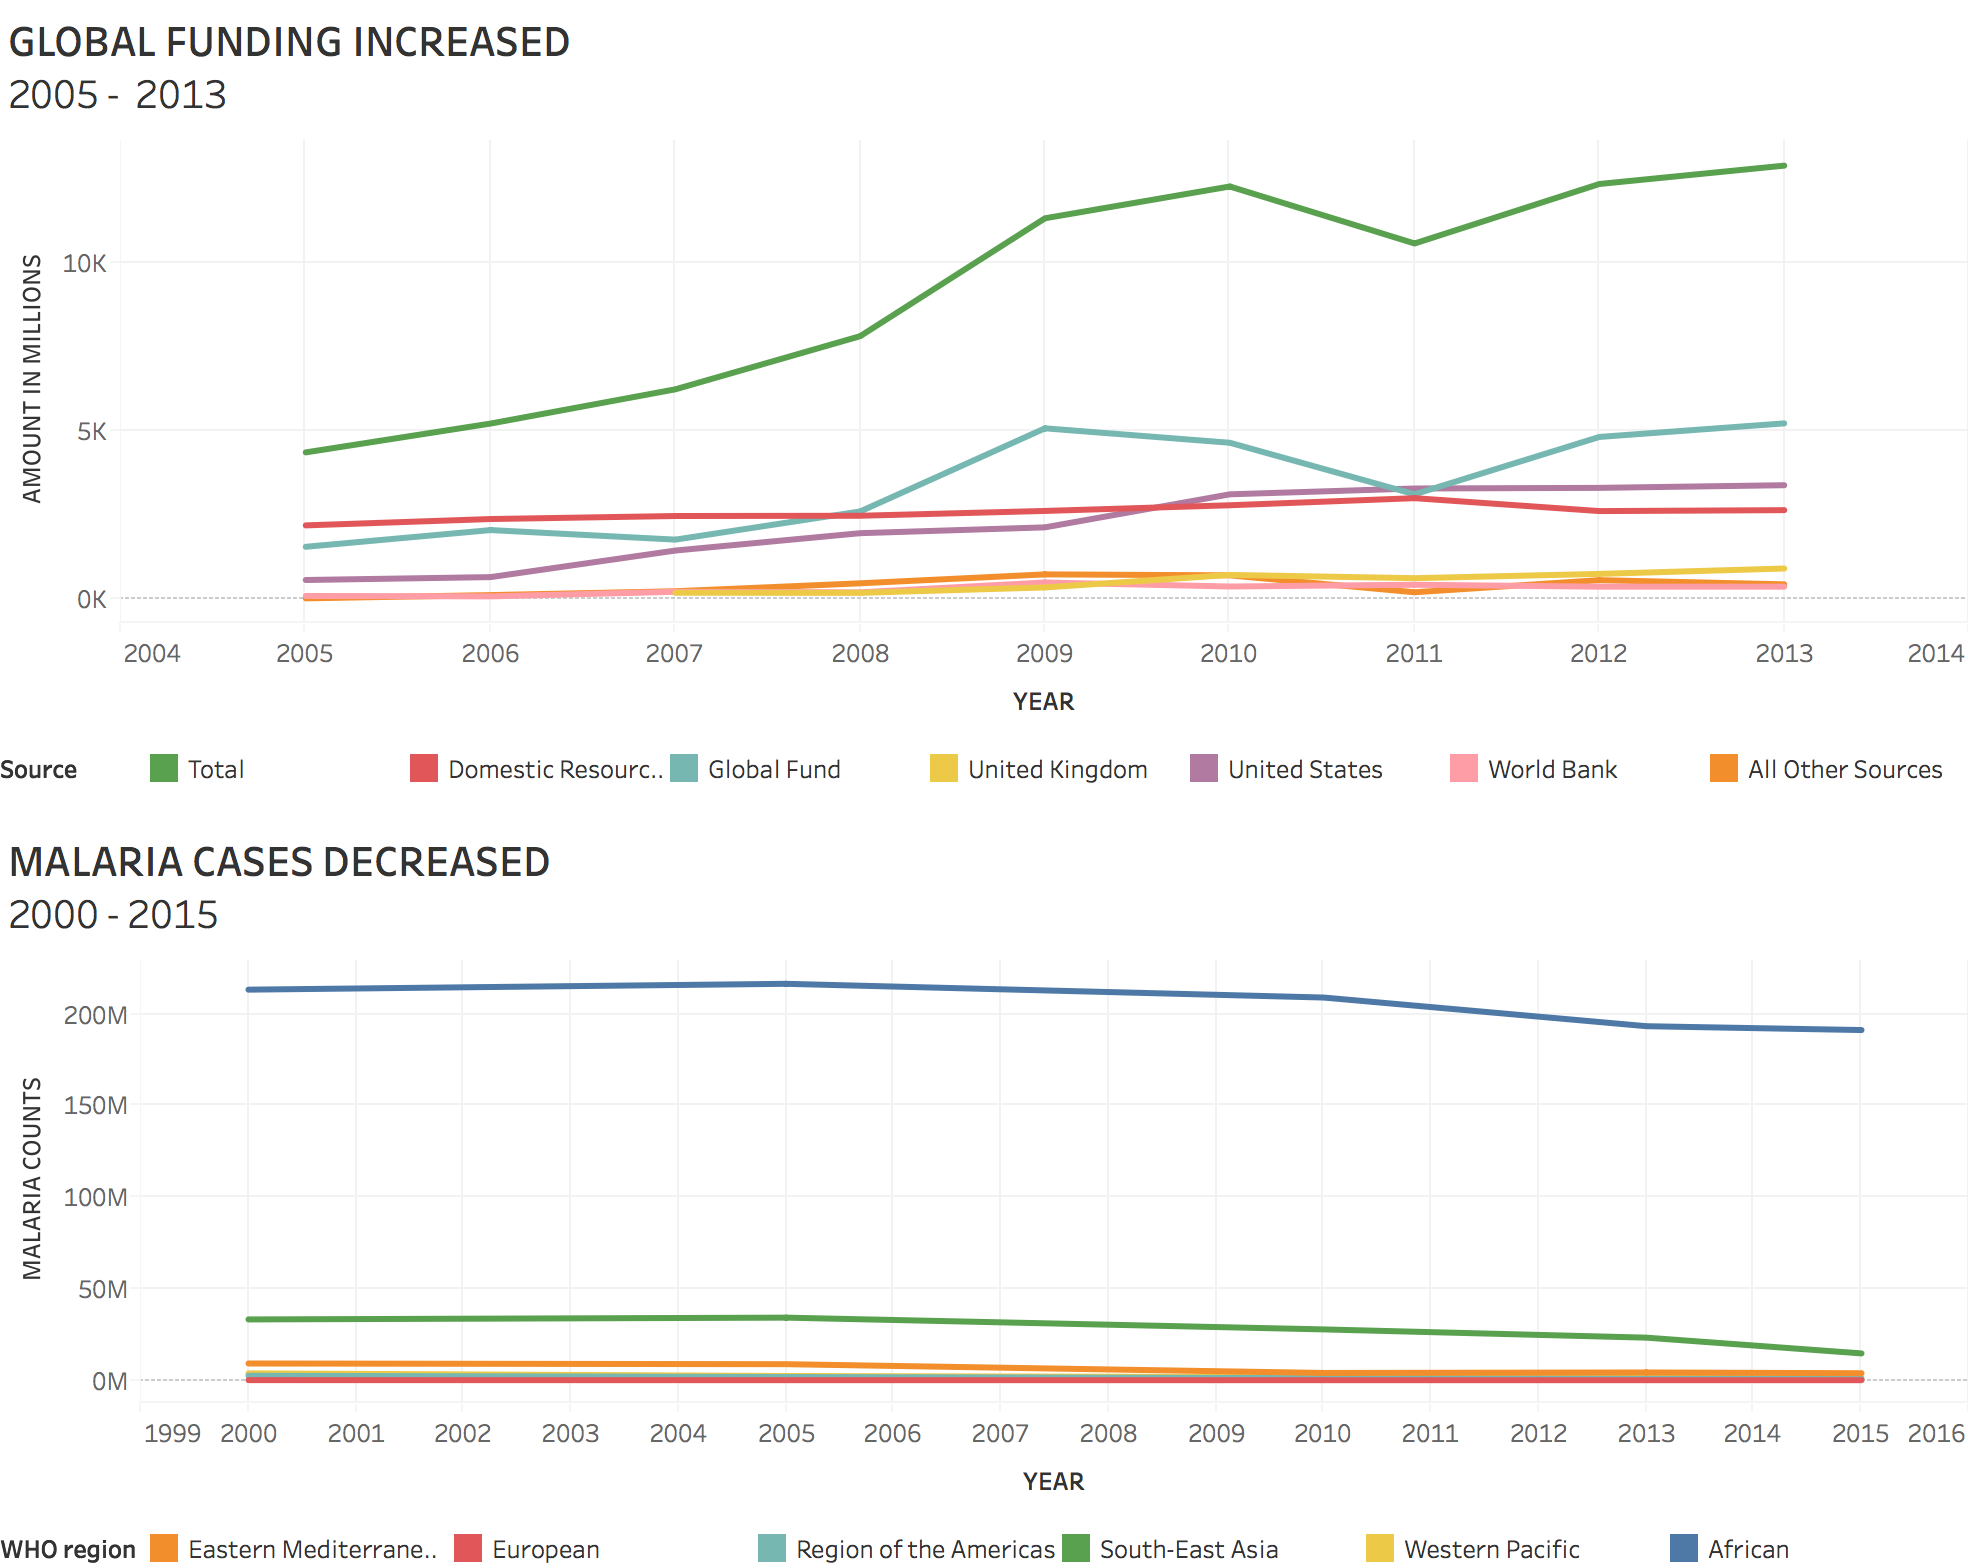

The dashboard page shown, as its layout file describes it:
{"tool":"tableau","page":{"name":"Dashboard 2","canvas":[1000,800],"ordinal":1},"visuals":[{"type":"worksheet","title":"Sheet 5","mark":"Automatic","rows":["Amount"],"cols":["year (global-funding-byYear.csv)"],"box":[0,0,1000,378]},{"type":"legend","title":"Sheet 5","param":"[federated.0tj8wf51snrsmi12ofu6d1w99ebb].[none:Source:nk]","box":[0,378,1000,36]},{"type":"worksheet","title":"Sheet 4","mark":"Automatic","rows":["Estimated_Malaria_Counts"],"cols":["year"],"box":[0,414,1000,354]},{"type":"legend","title":"Sheet 4","param":"[federated.0tj8wf51snrsmi12ofu6d1w99ebb].[none:WHO_region:nk]","box":[0,768,1000,32]}]}

Visuals, with their boxes in screenshot pixels (x1, y1, x2, y2), scaled from the page's 1000x800 canvas onto the 1968x1568 screenshot:
"Sheet 5" worksheet: detection(0, 0, 1967, 741)
"Sheet 5" legend: detection(0, 741, 1967, 811)
"Sheet 4" worksheet: detection(0, 811, 1967, 1505)
"Sheet 4" legend: detection(0, 1505, 1967, 1567)
